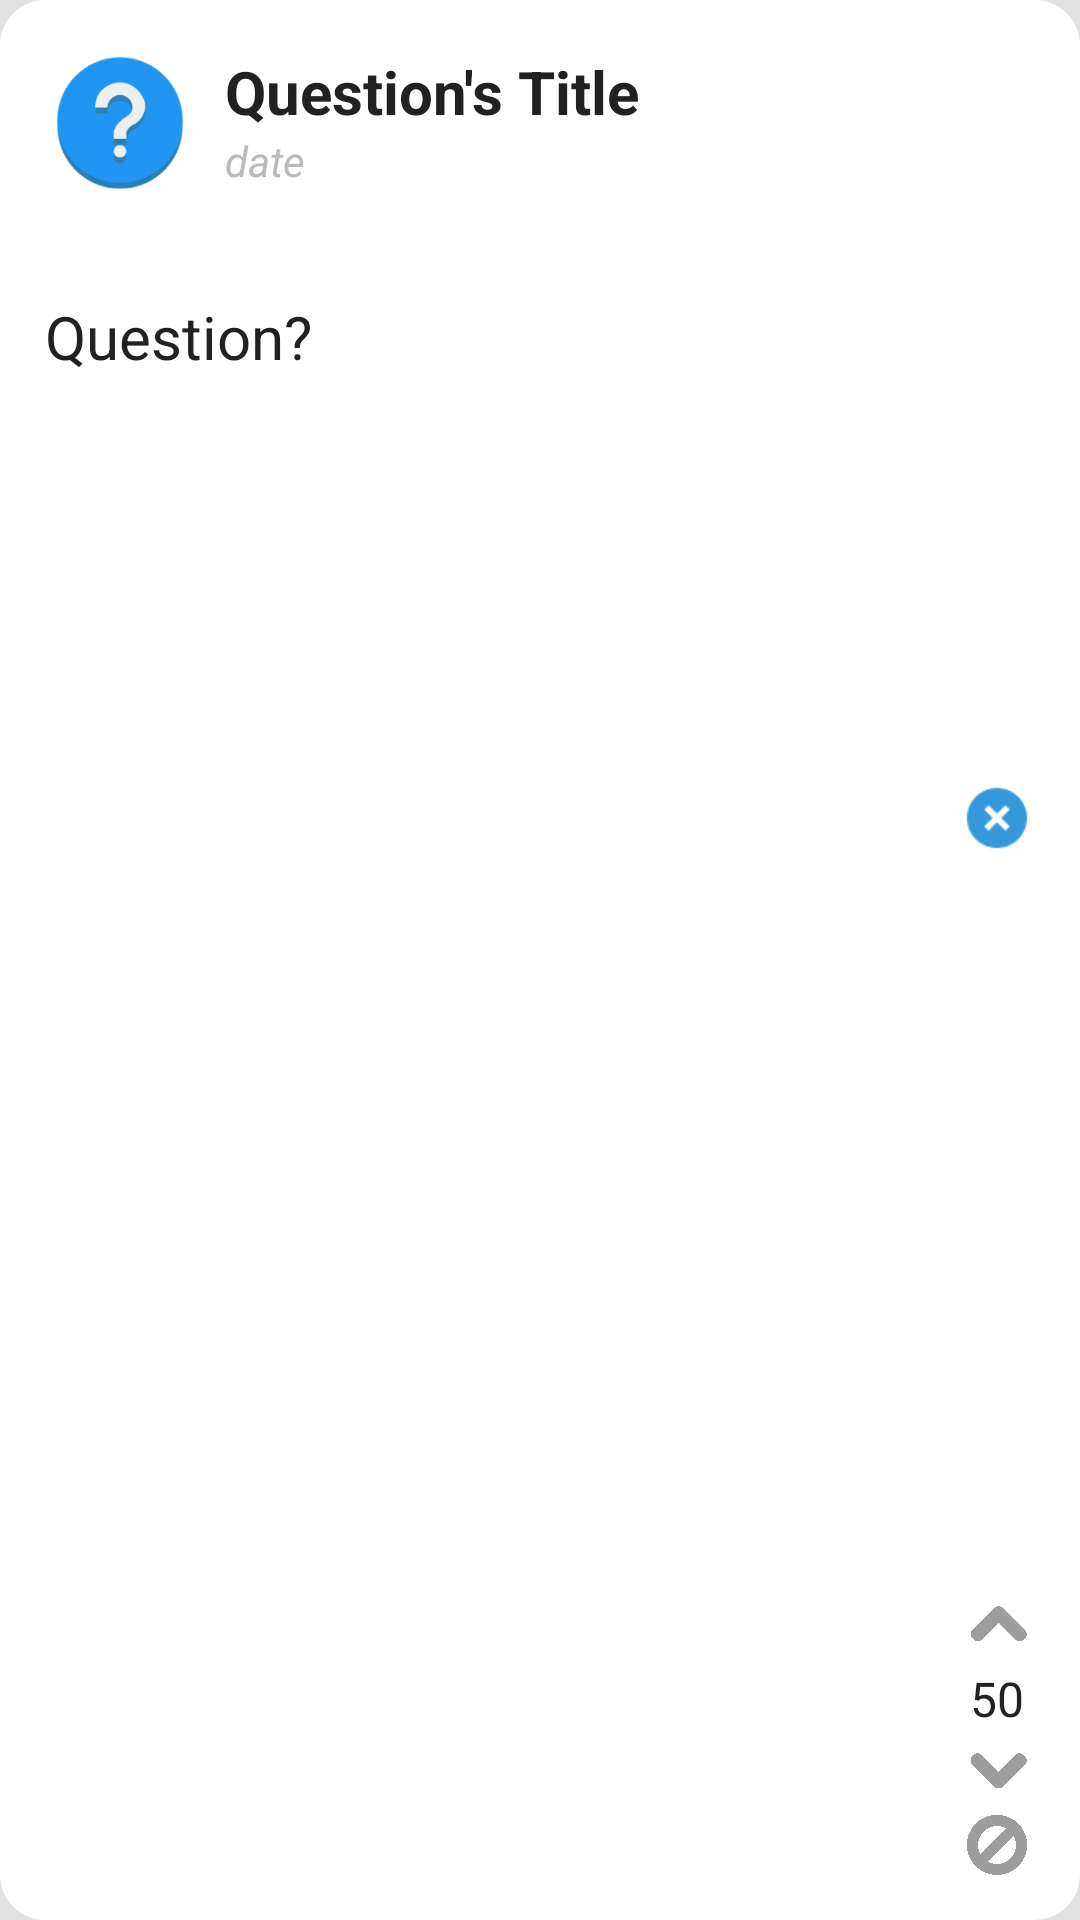

Icon click points for this 1080*1920 phone screenshot, format [x,y]:
delete: [997,818]
downvote: [999,1770]
novote: [997,1845]
upvote: [999,1623]
